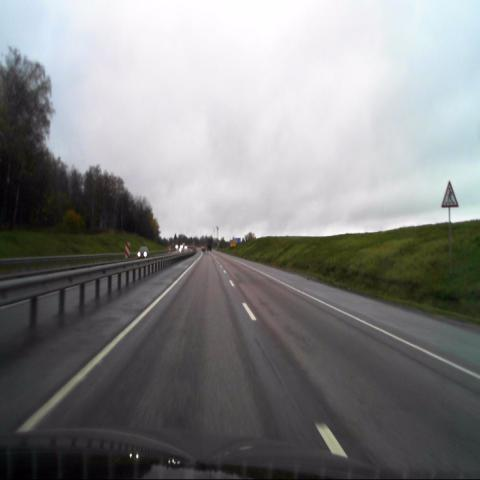1_22: (441, 179, 458, 208)
